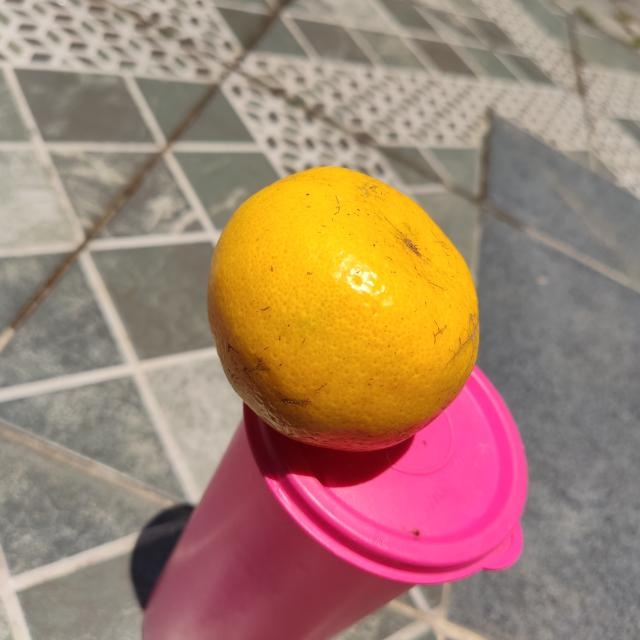agrume: (204, 165, 480, 452)
